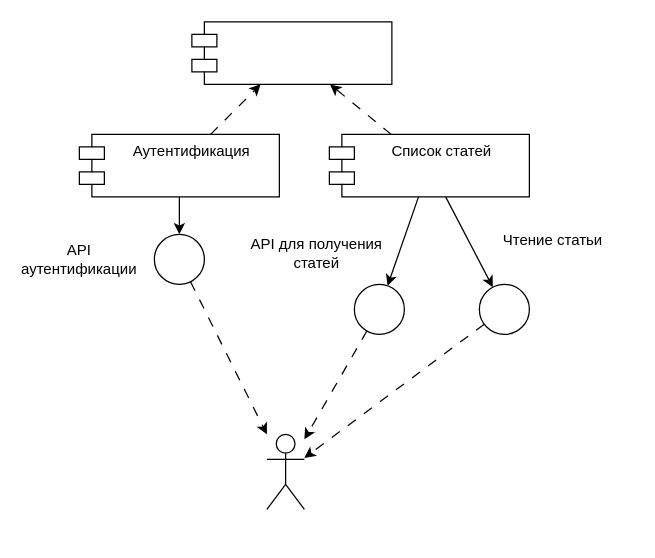
This 655x558 diagram has some shape labels left out. Here are the shapes that lost their labels. From the top down, the centre of each, then its label:
At (x=291, y=52): "База данных".
At (x=285, y=471): "Пользователь".
